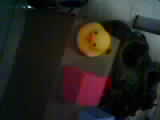duck: (71, 18, 105, 71)
